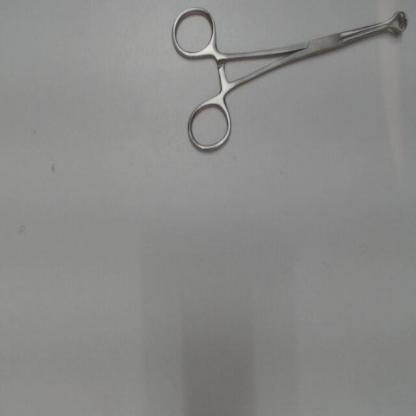Babcock Tissue Forceps: (169, 2, 413, 157)
